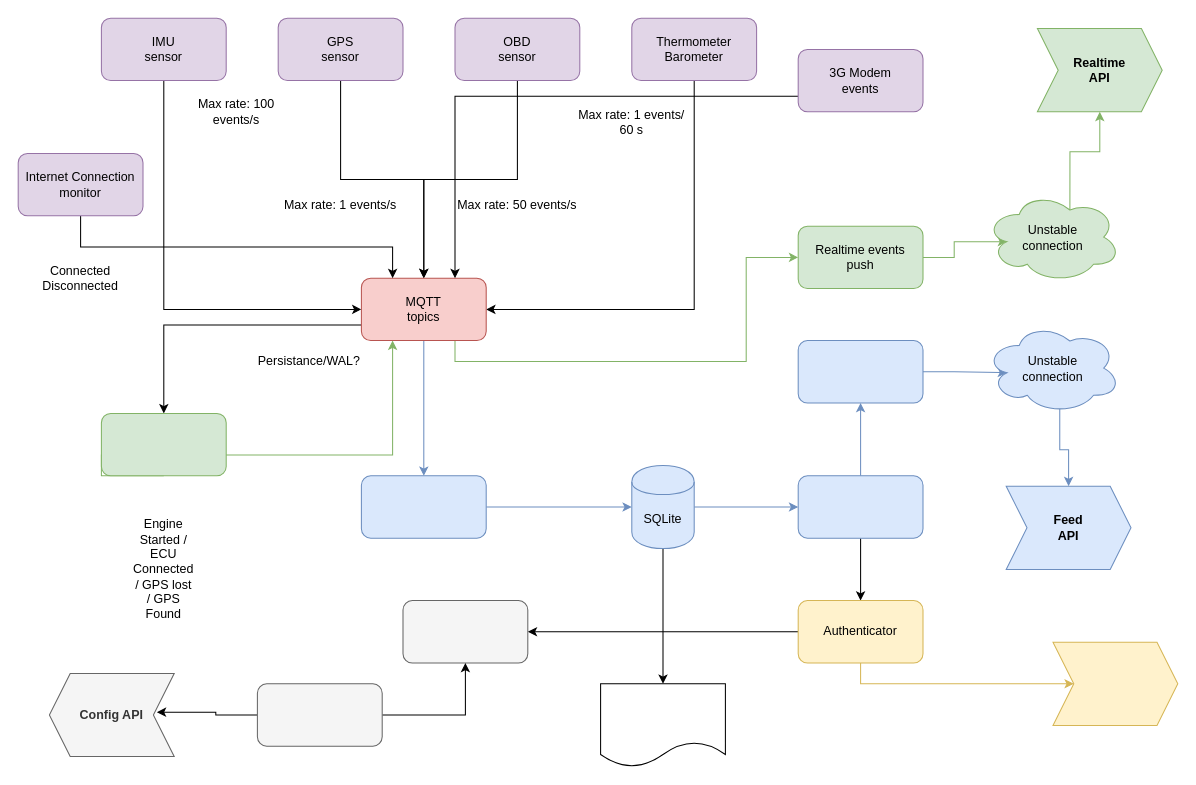
Some shapes in this 1196 by 785 pixel diagram are drawn without their labels. Each missing label, with the centre of its shape:
"Auth API" goes at point (1115, 683).
"Collector" goes at point (423, 506).
"Configuration store" goes at point (465, 631).
"Deployment & Configuration agent" goes at point (319, 714).
"Realtime events aggregator" goes at point (163, 444).
"Rotated DB log" goes at point (662, 725).
"Syncer process" goes at point (860, 506).
"versioned API gateway with retry" goes at point (860, 371).
